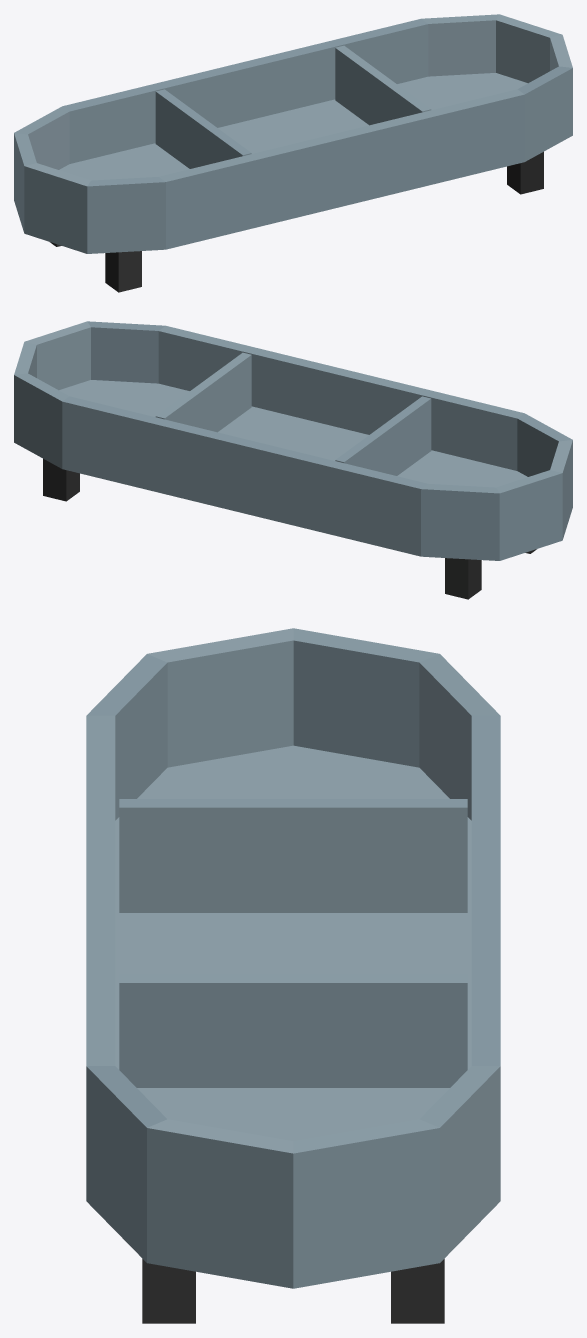
File: C01_ChickenTrough_3Slots.fbx
3 renders of one model, top to bottom at view 1: azimuth 30°, elevation 25°; view 2: azimuth 150°, elevation 25°; view 3: azimuth 270°, elevation 25°, orthographic. The views are drawn at different scales.
Visible parts, largest first — view 1: C01_ChickenTrough_3Slots.001; view 2: C01_ChickenTrough_3Slots.001; view 3: C01_ChickenTrough_3Slots.001.
Boxes of the visible parts, x1,y1,x2,y2 form: C01_ChickenTrough_3Slots.001: (14,14,572,292); C01_ChickenTrough_3Slots.001: (14,321,572,599); C01_ChickenTrough_3Slots.001: (86,628,500,1323).
Size of the model in its own units: 1.5 by 0.3 by 0.5.
